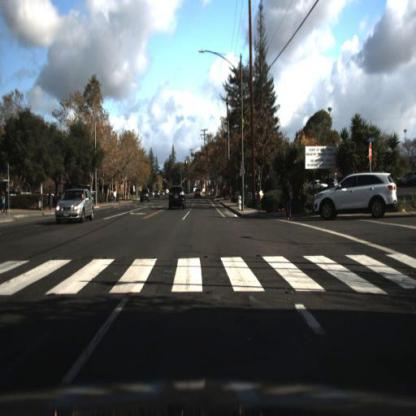car: (313, 170, 400, 217), (52, 183, 94, 222), (163, 176, 189, 217), (168, 185, 187, 211), (139, 186, 153, 204), (140, 187, 152, 206), (192, 188, 204, 204)
pedestrian: (283, 173, 294, 228), (283, 176, 297, 218), (113, 187, 119, 204)
